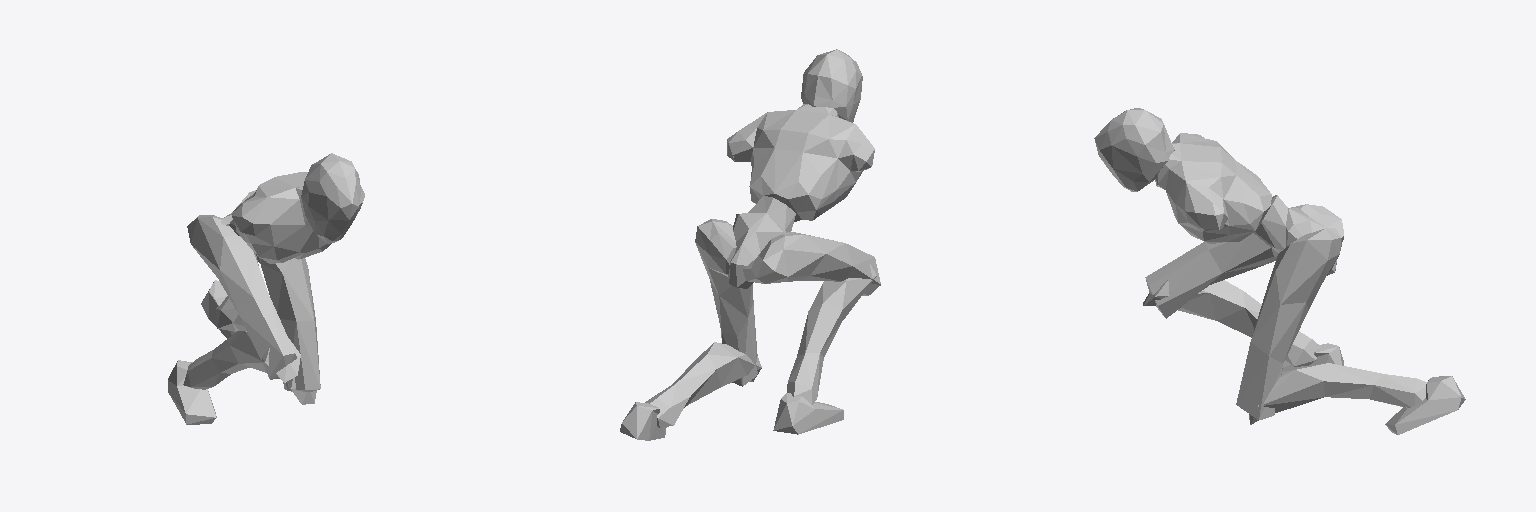
Rendered from filth17.obj.
3 renders of one model, left to right at view 1: azimuth 30°, elevation 25°; view 2: azimuth 150°, elevation 25°; view 3: azimuth 270°, elevation 25°, orthographic.
Visible parts, largest first — view 1: Melee_Husk; view 2: Melee_Husk; view 3: Melee_Husk.
Part boxes in pixels (x1,y1,x2,y2): Melee_Husk: (168,153,364,424); Melee_Husk: (620,49,880,440); Melee_Husk: (1094,108,1465,434).
Size of the model in its own units: 22.18 by 43.57 by 48.85.